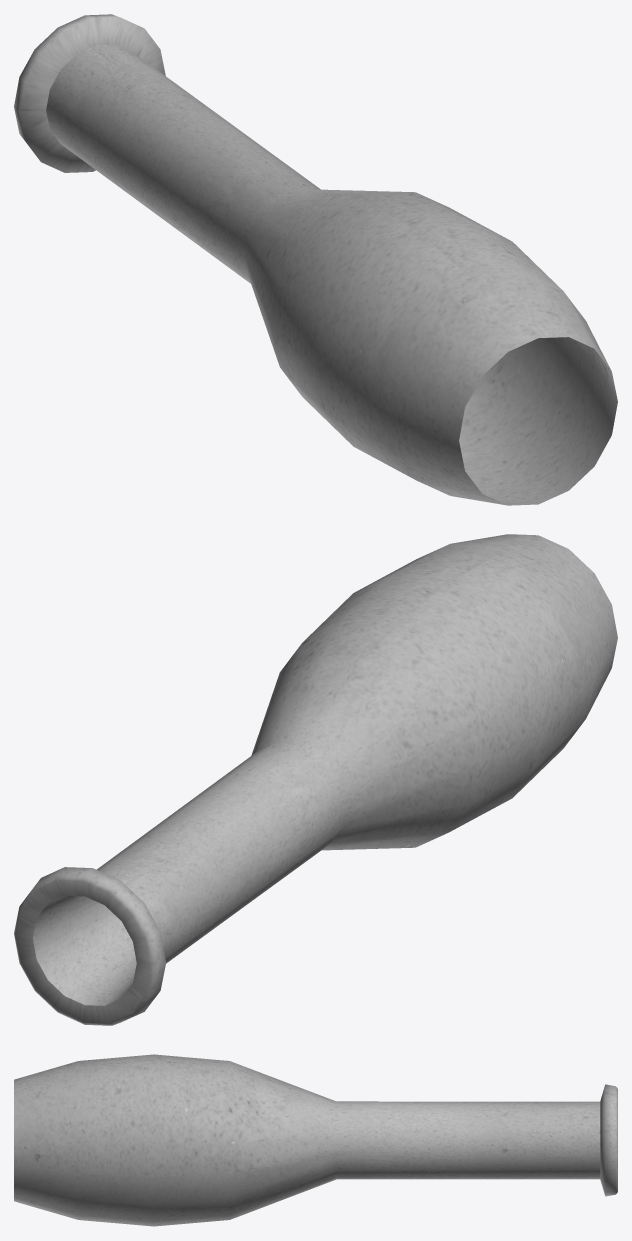
File: vase002.FBX
3 renders of one model, top to bottom at view 1: azimuth 30°, elevation 25°; view 2: azimuth 150°, elevation 25°; view 3: azimuth 270°, elevation 25°, orthographic. The views are drawn at different scales.
Visible parts, largest first — view 1: vase002; view 2: vase002; view 3: vase002.
Part boxes in pixels (x1,y1,x2,y2): vase002: [14, 14, 617, 505]; vase002: [14, 534, 617, 1025]; vase002: [14, 1054, 617, 1226].
Size of the model in its own units: 15.9 by 15.9 by 55.75.
